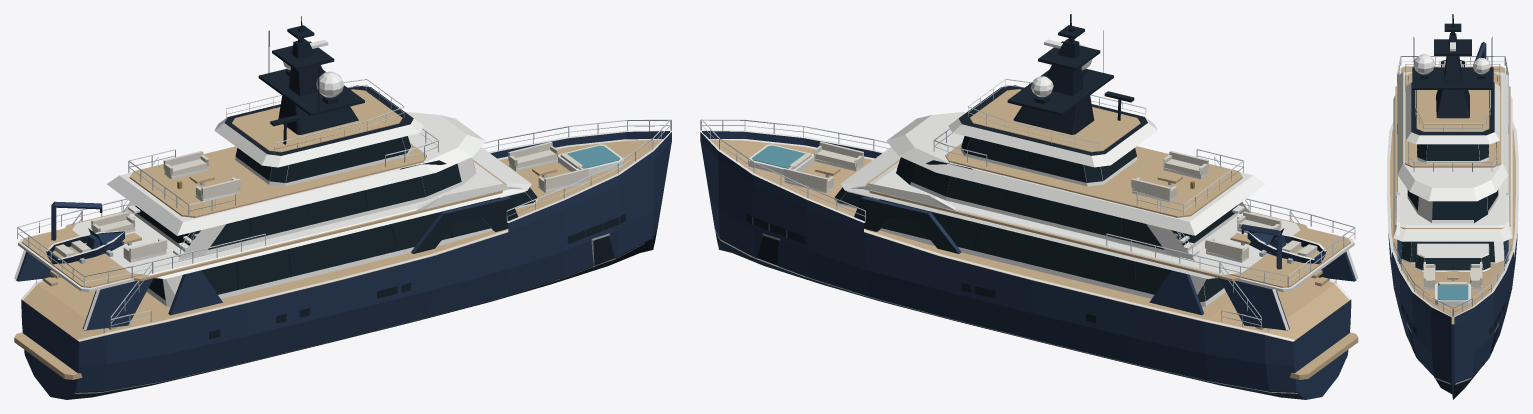
Rendered from LuxuryYacht_Mobile_Final.fbx.
3 renders of one model, left to right at view 1: azimuth 30°, elevation 25°; view 2: azimuth 150°, elevation 25°; view 3: azimuth 270°, elevation 25°, orthographic. The views are drawn at different scales.
Visible parts, largest first — view 1: LuxuryYacht_Mobile_Final; view 2: LuxuryYacht_Mobile_Final; view 3: LuxuryYacht_Mobile_Final.
Part boxes in pixels (bbox=[...]): LuxuryYacht_Mobile_Final: bbox=[14, 16, 671, 399]; LuxuryYacht_Mobile_Final: bbox=[700, 14, 1358, 399]; LuxuryYacht_Mobile_Final: bbox=[1387, 14, 1518, 399].
Bounding box in the file's own units: 4073 × 1978 × 940.
